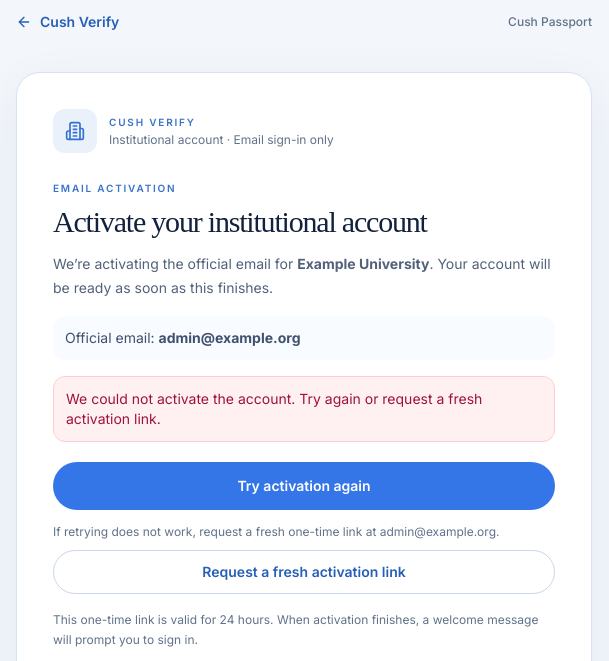
Cush Verify application guidance › offers a retry and fresh activation link after activation fails
Expected: the message shows "We could not activate the account", [66, 390, 482, 427]
Expected: the button "Try activation again" is shown, [53, 462, 555, 510]
Click the button "Request a fresh activation link".
click(304, 572)  # box [53, 550, 555, 594]
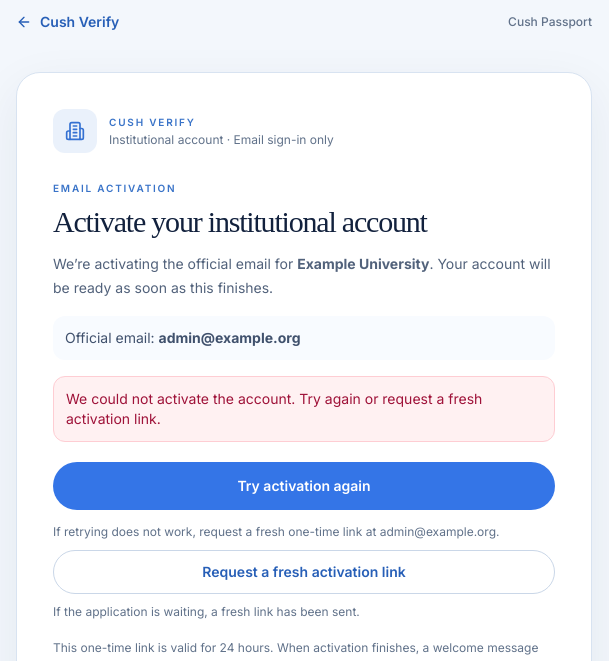
Expected: the message "If the application is waiting, a fresh link has been sent." is shown, [53, 604, 360, 619]
